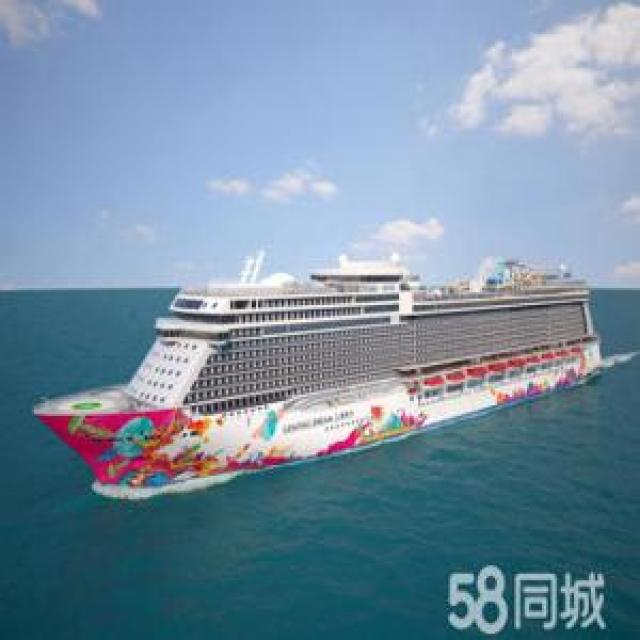passenger ship: (35, 249, 614, 489)
